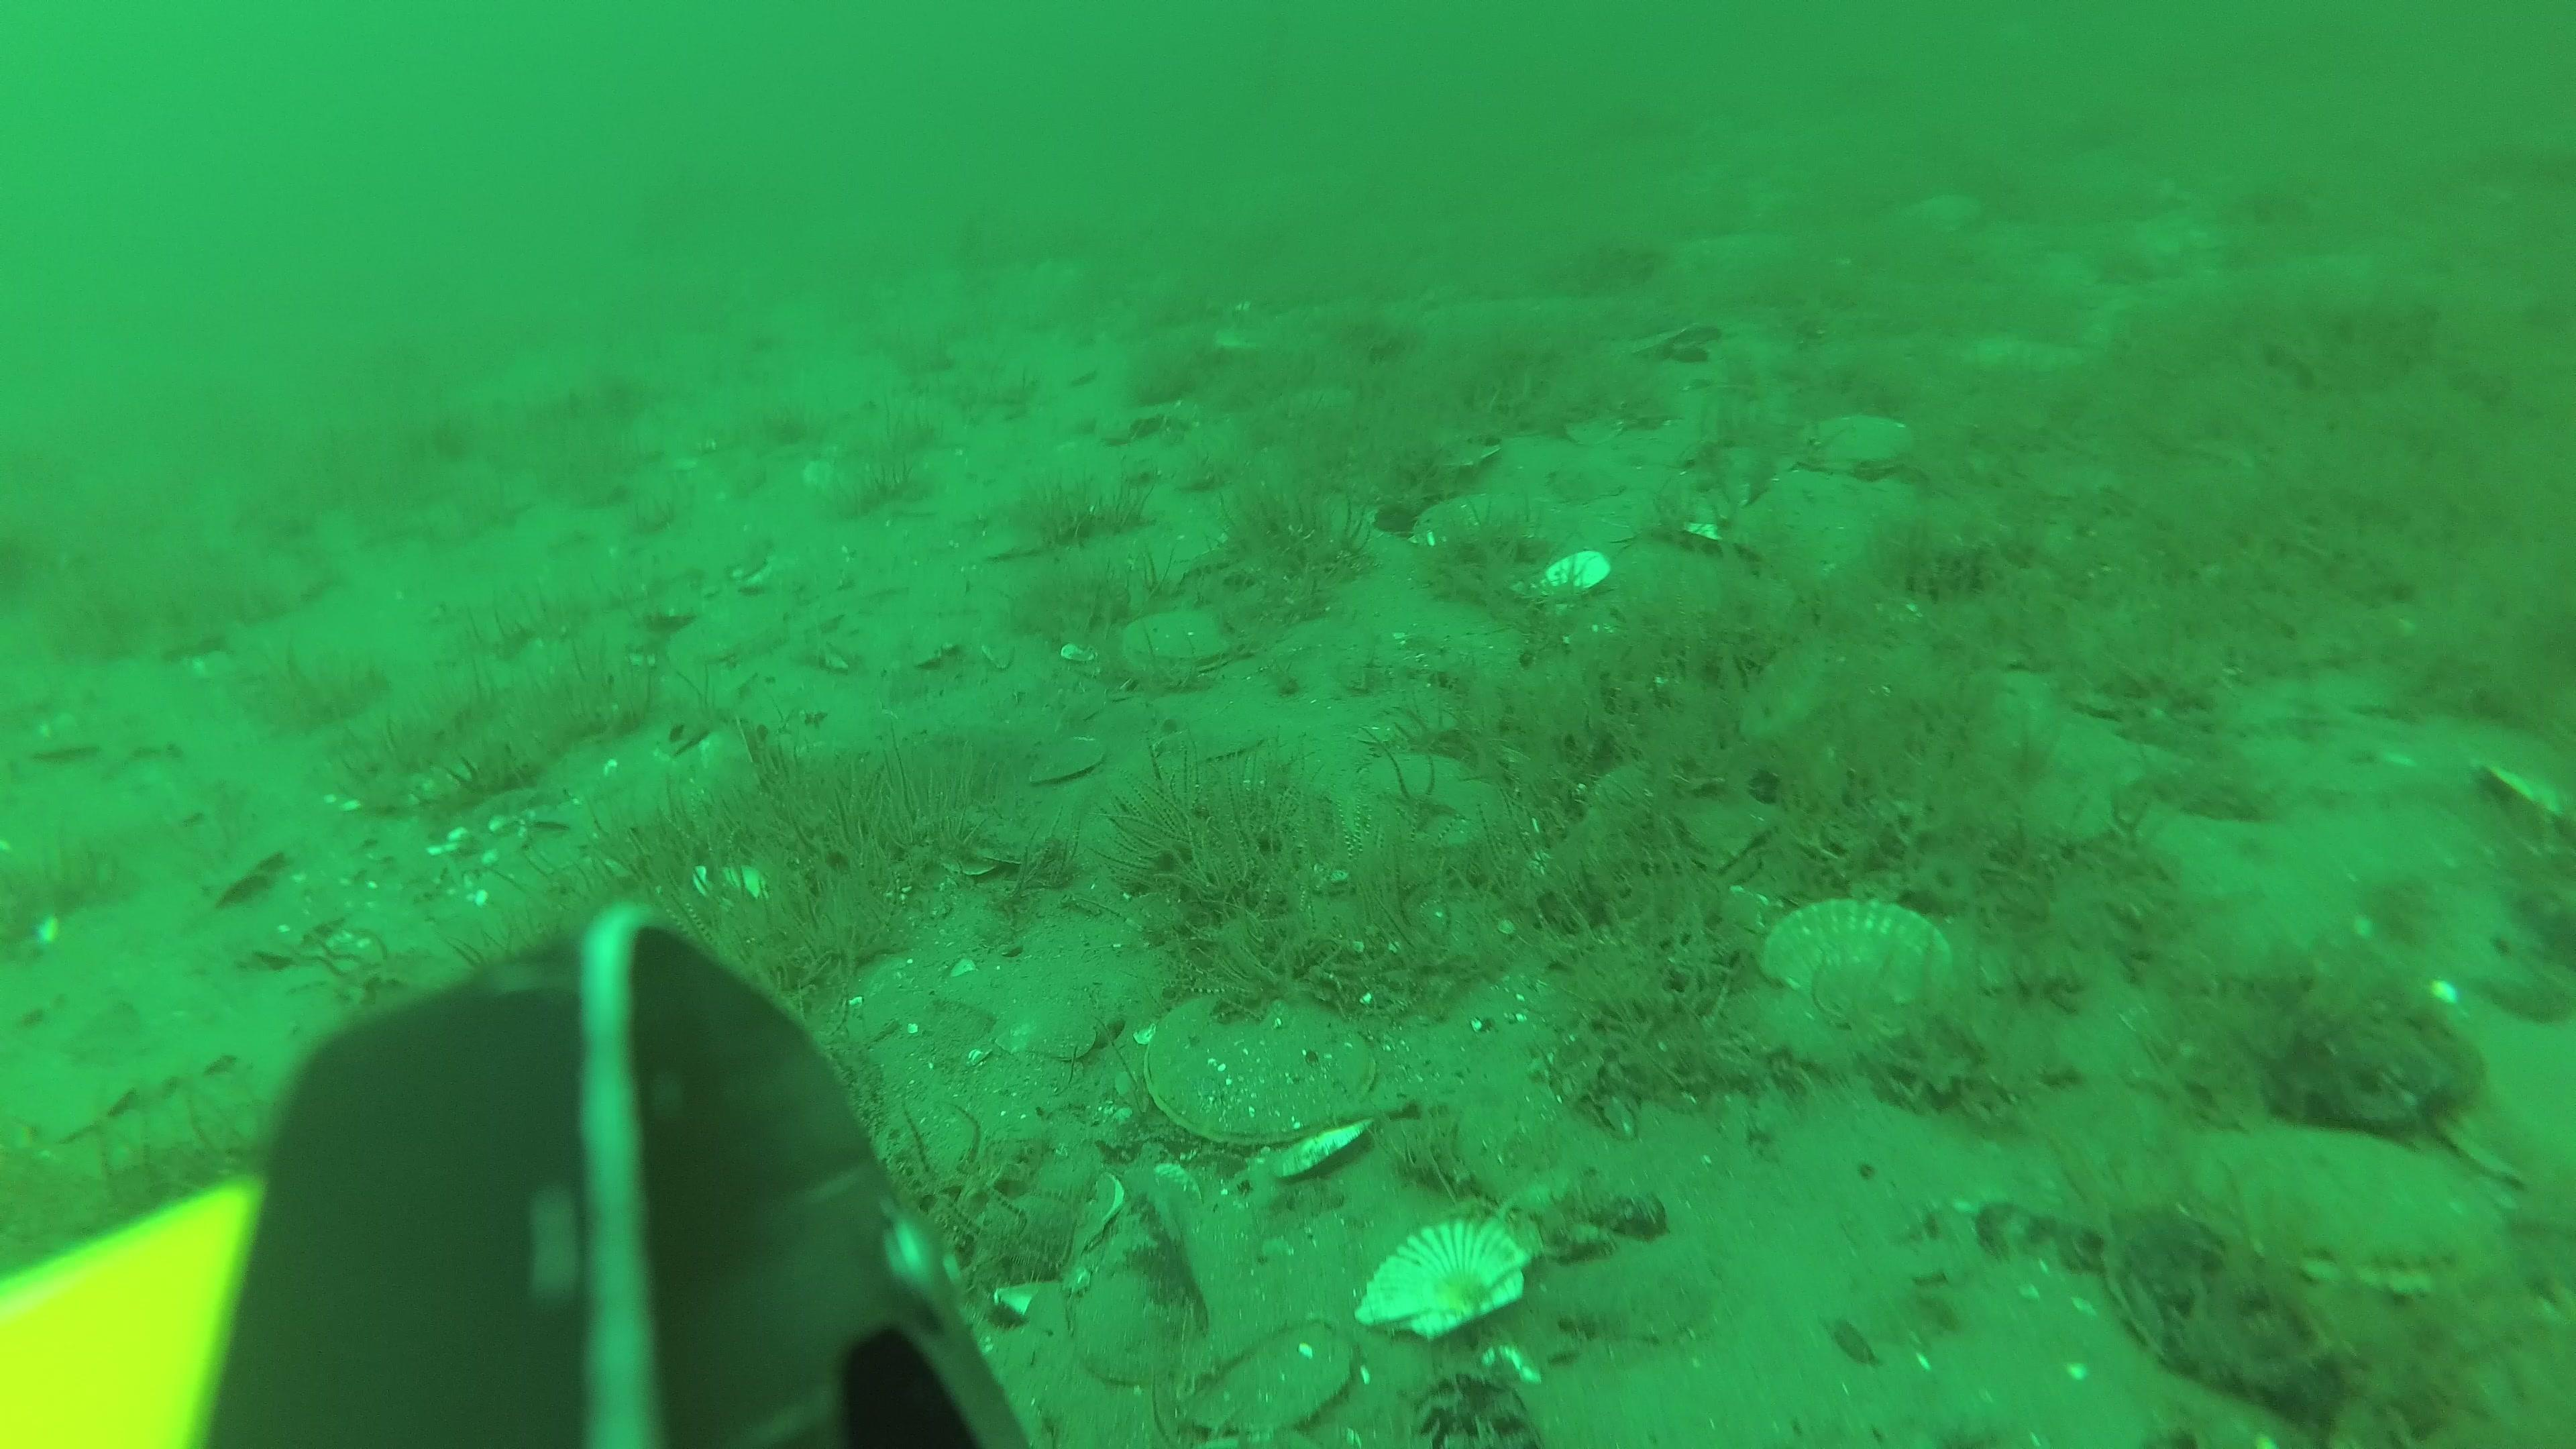scallop: (2187, 1100, 2509, 1304), (1141, 987, 1380, 1157), (1750, 886, 1971, 1033), (1346, 1208, 1536, 1345), (1585, 757, 1789, 879), (1111, 607, 1253, 683), (1787, 409, 1923, 485), (1364, 743, 1481, 832), (1396, 419, 1518, 481), (1396, 497, 1504, 550), (1537, 451, 1633, 510), (1159, 722, 1267, 770), (1033, 731, 1113, 793), (1537, 548, 1606, 602)
